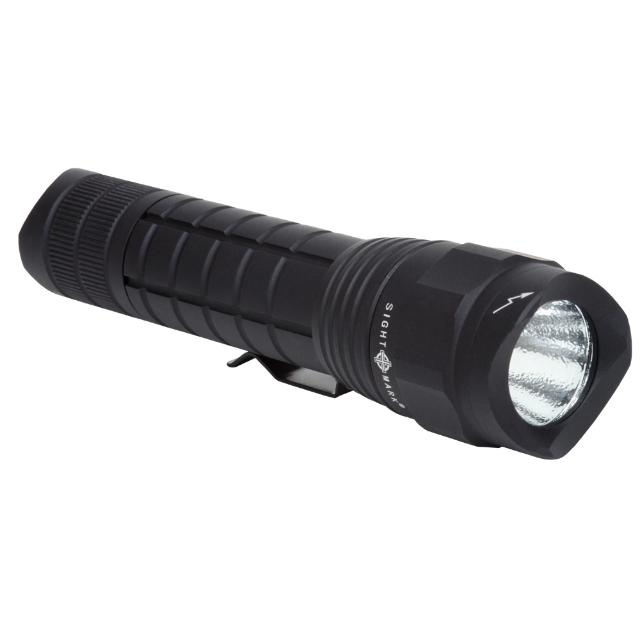Flashlight: (11, 158, 640, 468)
